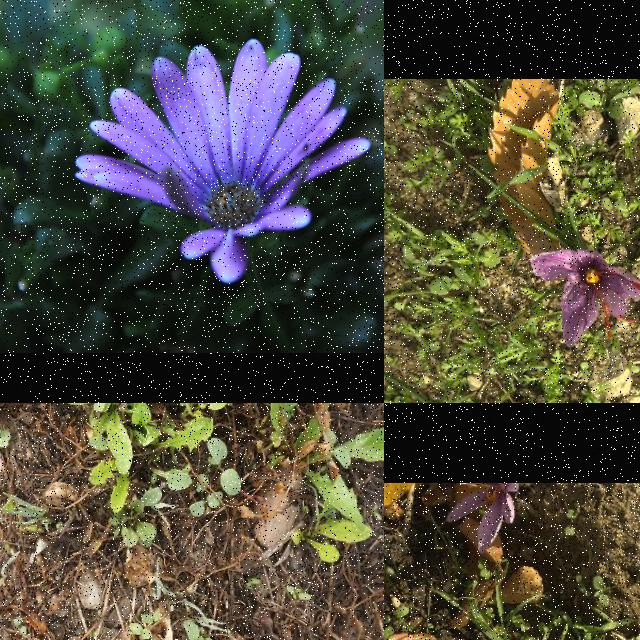flower: (530, 249, 640, 348), (446, 483, 518, 552)
